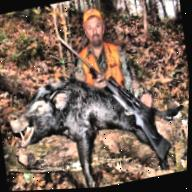boar: (0, 37, 191, 192)
